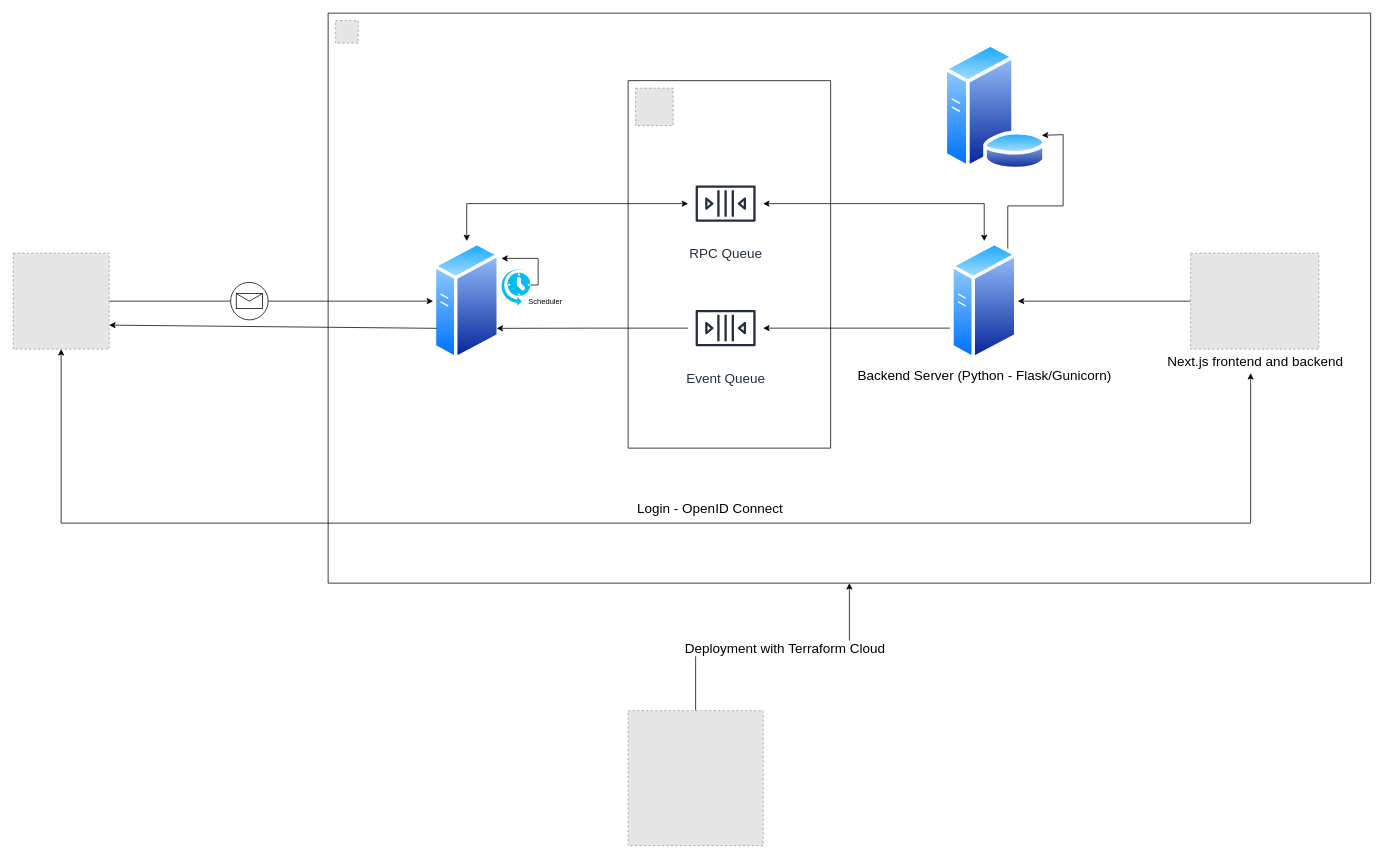
Image size: 1384x859. Some labels were removed from this diagram. Grey dashed boxes stand in for pictures. Here are the shapes that lost their labels. From the top down, the centre of each, then its label:
the point at 994,106: PostgresSQL
the point at 466,301: Slack Bot (Python - Bolt framework)
